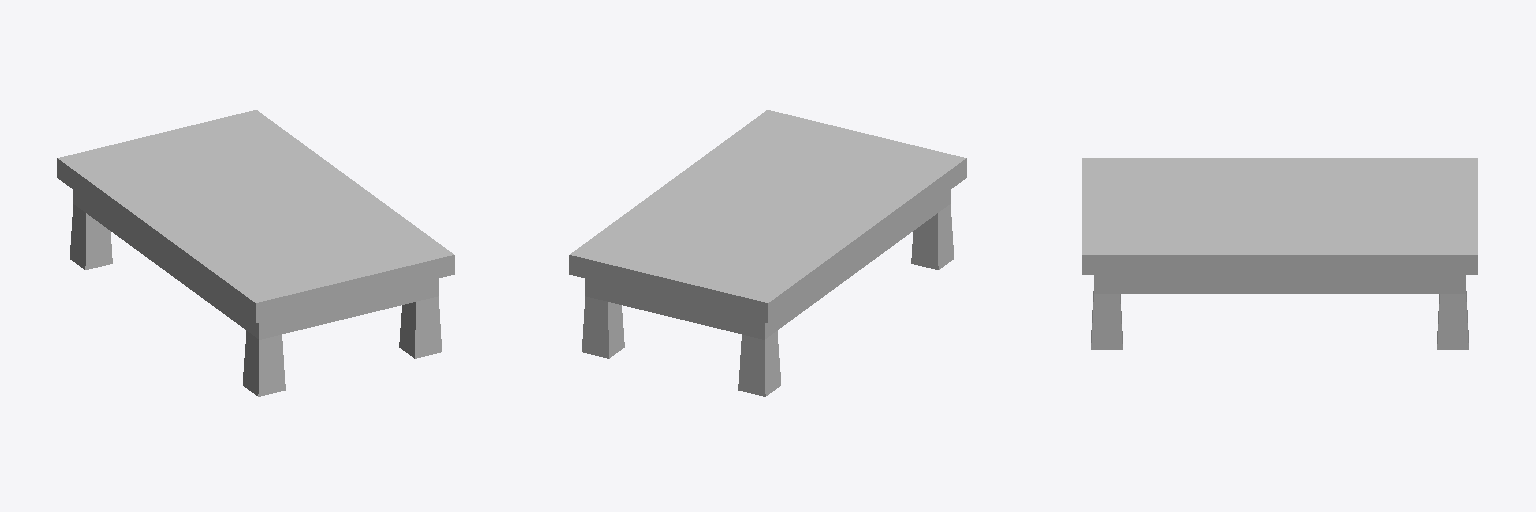
The model's file is CoffeeTable.obj.
The picture shows the model from 3 angles: view 1: azimuth 30°, elevation 25°; view 2: azimuth 150°, elevation 25°; view 3: azimuth 270°, elevation 25°; orthographic projection.
Parts seen in each view (by area): view 1: Coffee_Table; view 2: Coffee_Table; view 3: Coffee_Table.
Part boxes in pixels (x1,y1,x2,y2): Coffee_Table: (57, 110, 454, 396); Coffee_Table: (569, 110, 966, 396); Coffee_Table: (1082, 158, 1477, 349).
Size of the model in its own units: 0.5889 by 0.2802 by 1.02.